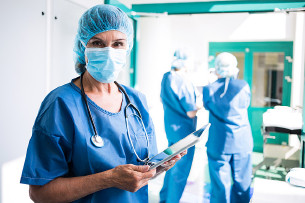face_mask: (84, 25, 127, 82)
